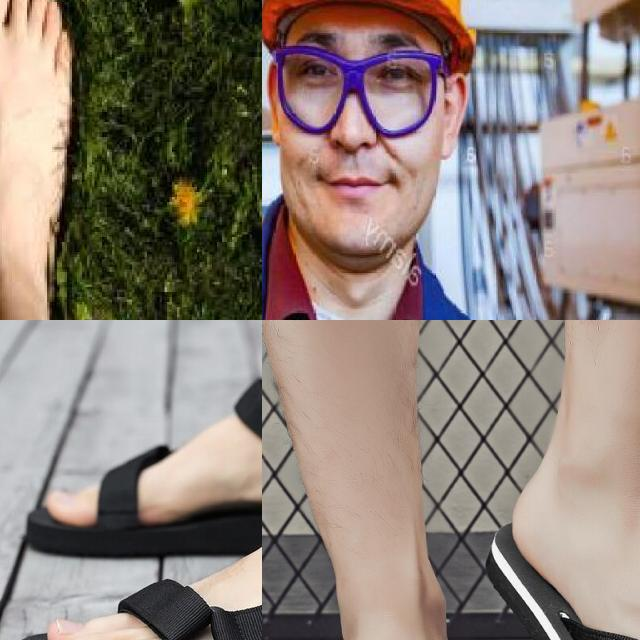Barefoots: (0, 0, 111, 320)
No_Ear-Protection: (437, 74, 482, 160), (262, 66, 287, 155)
No_Glasses: (274, 46, 449, 137)
Sandals: (10, 425, 262, 640)
face_nomask: (278, 97, 441, 255)
